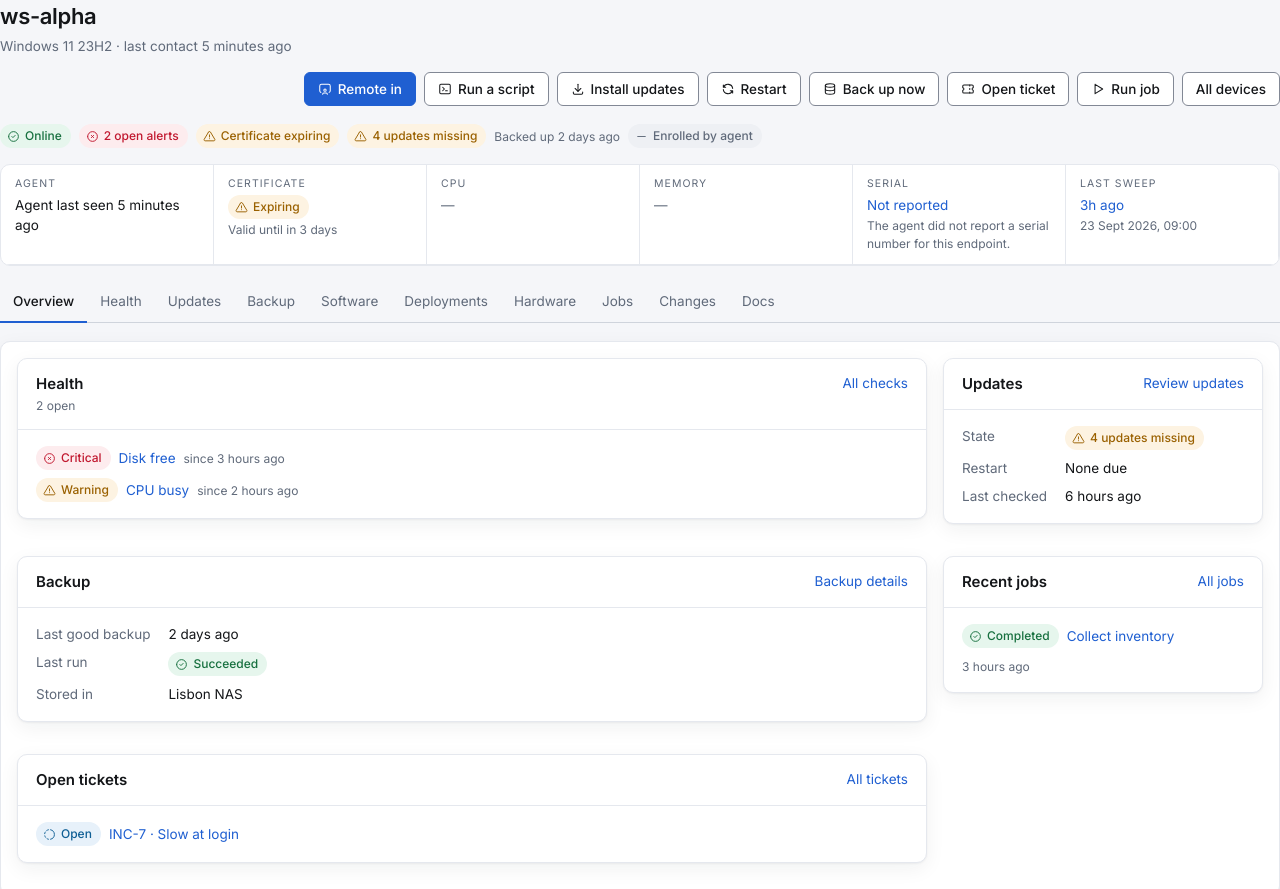
Test case: the actions › says so when a restart was already booked
Click the button "Restart" at (754,89), box left=706, top=72, right=801, bottom=106
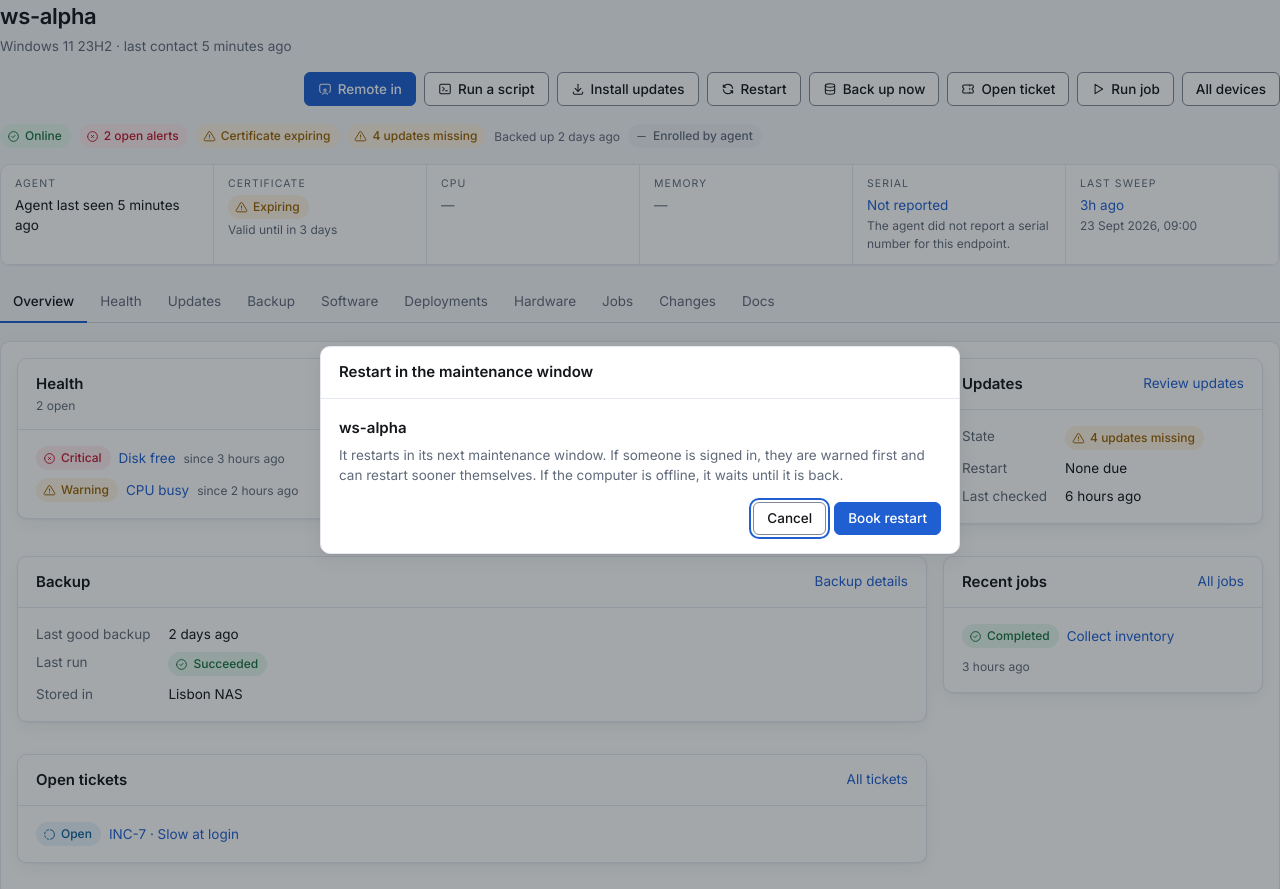
Click the button "Book restart" at (888,518), box left=834, top=502, right=941, bottom=535
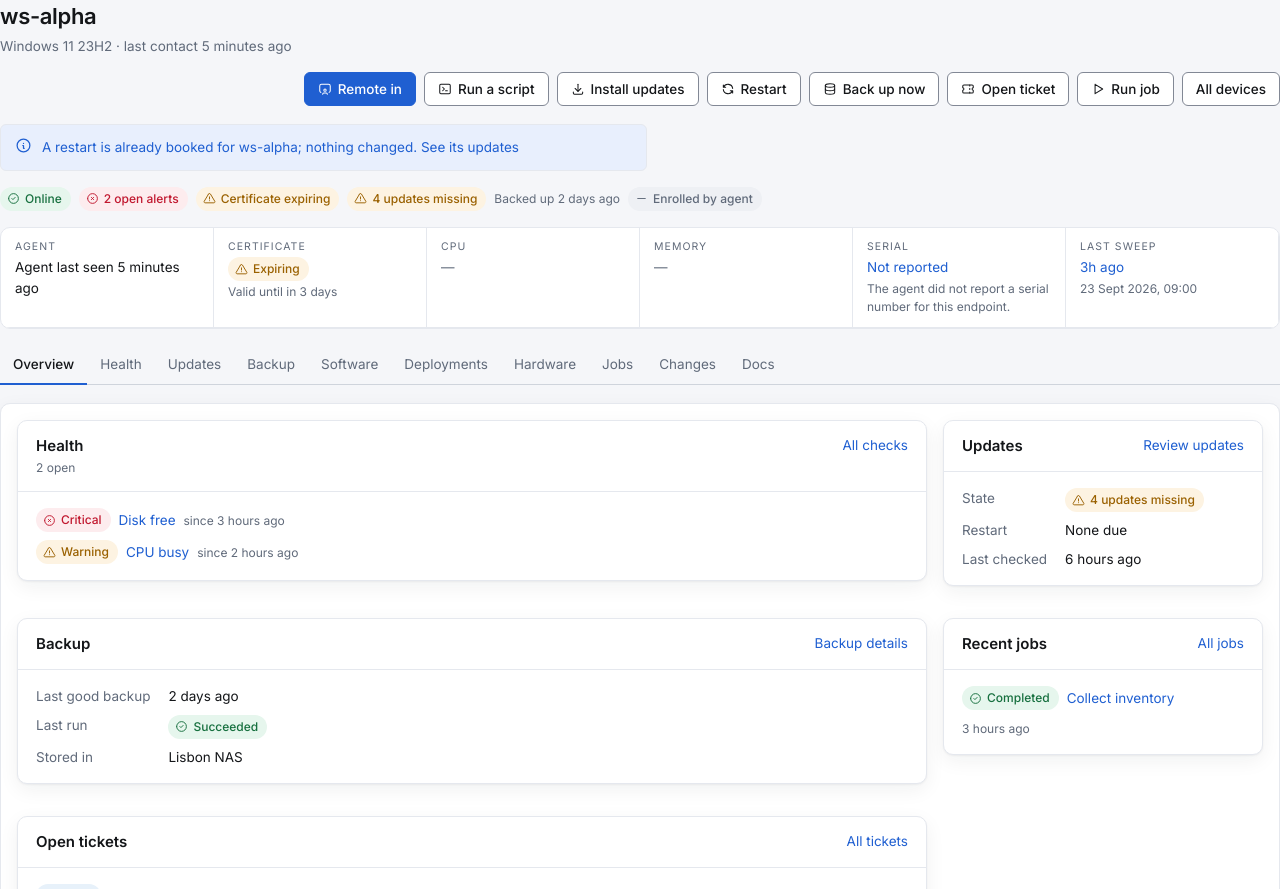
Expected: the message shows "A restart is already booked for ws-alpha", left=42, top=139, right=417, bottom=155
